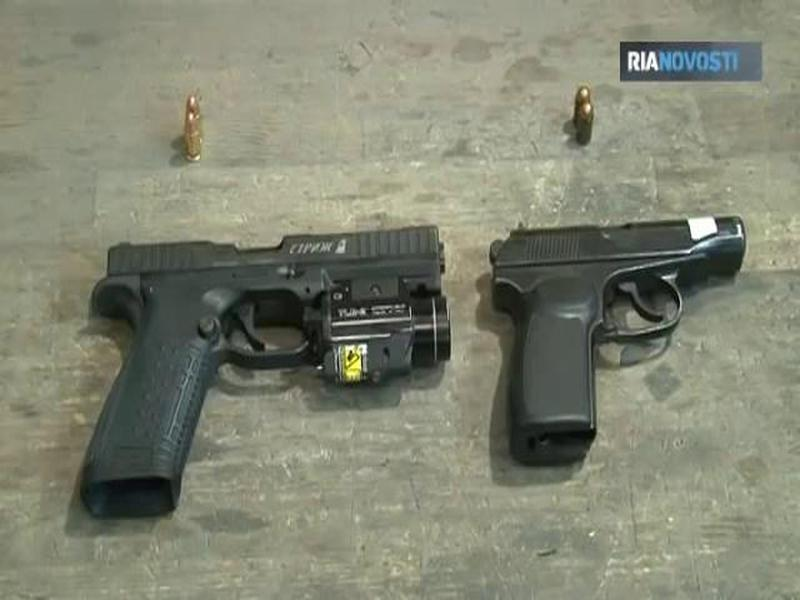Pistola: (50, 224, 467, 518), (483, 215, 762, 468)
